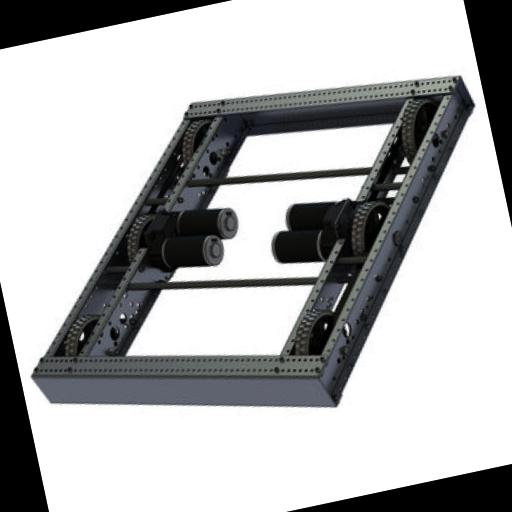robot: (0, 42, 512, 475)
